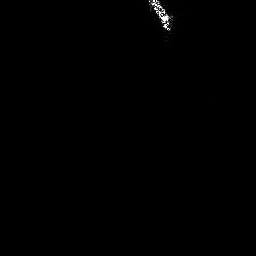ship: (144, 1, 175, 34)
